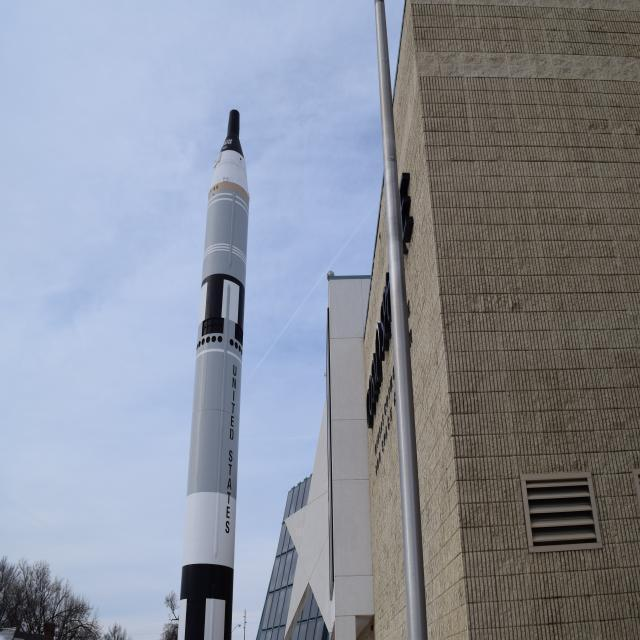missile: (177, 100, 251, 640)
